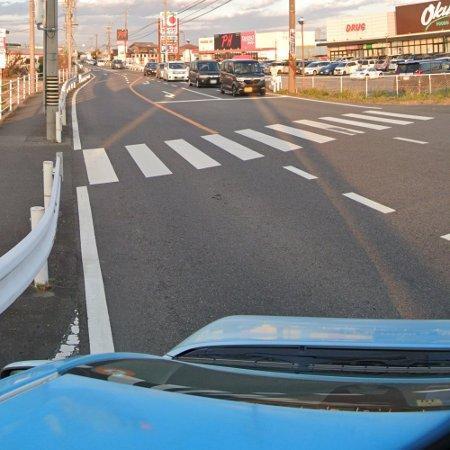crosswalks: (83, 108, 439, 188)
